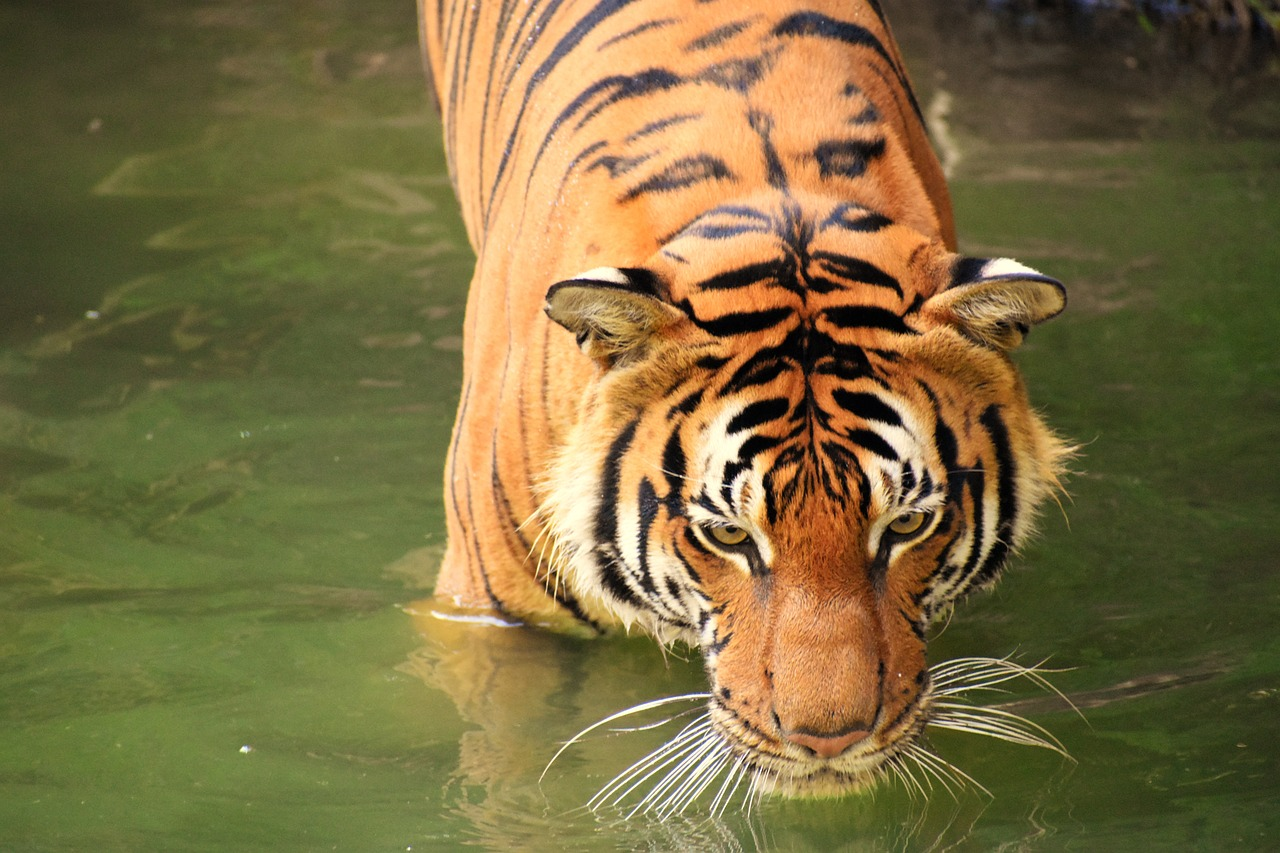tiger: (498, 214, 1184, 836)
